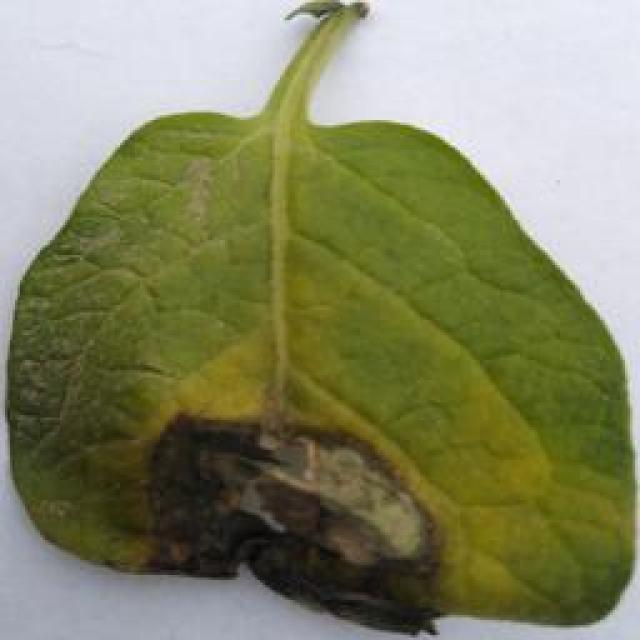Potato_Late_Blight: (5, 10, 620, 632)
